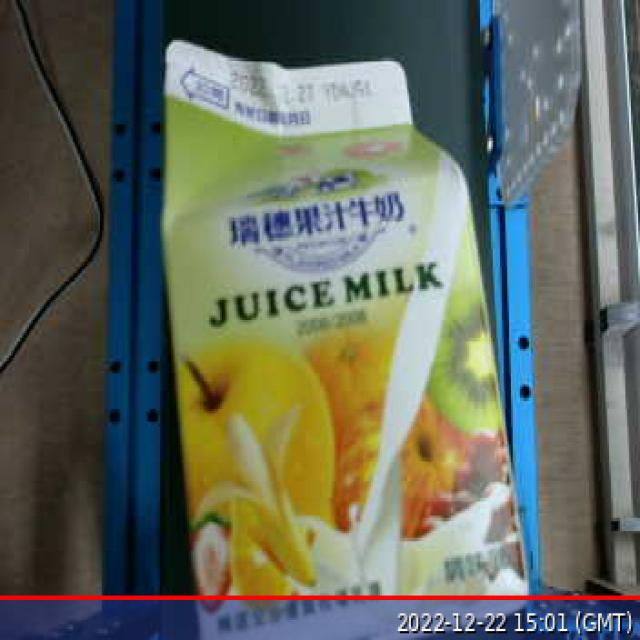non_white_jug: (142, 31, 531, 640)
